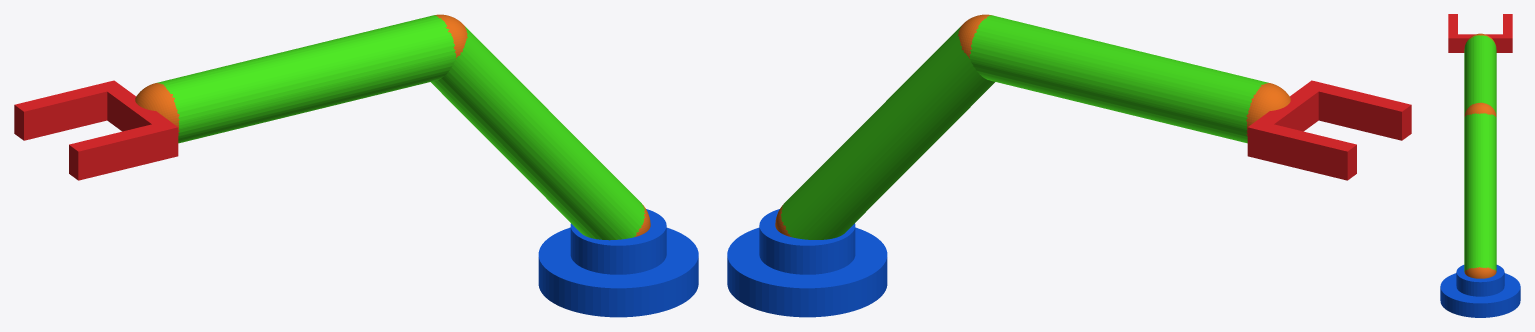
File: assemble.glb
3 views of the same model, side by side, from view 1: azimuth 30°, elevation 25°; view 2: azimuth 150°, elevation 25°; view 3: azimuth 270°, elevation 25° (orthographic). The views are drawn at different scales.
Visible parts, largest first — view 1: asssemble - links-2, asssemble - links-1, asssemble - base-1, asssemble - End effort-1, asssemble - joints-3, asssemble - joints-2; view 2: asssemble - links-2, asssemble - links-1, asssemble - base-1, asssemble - End effort-1, asssemble - joints-3, asssemble - joints-2; view 3: asssemble - links-1, asssemble - base-1, asssemble - links-2, asssemble - End effort-1, asssemble - joints-1, asssemble - joints-2.
Boxes of the visible parts, x1,y1,x2,y2 form: asssemble - links-2: [157, 15, 456, 143]; asssemble - links-1: [431, 26, 645, 240]; asssemble - base-1: [538, 209, 698, 317]; asssemble - End effort-1: [14, 80, 178, 180]; asssemble - joints-3: [135, 83, 179, 135]; asssemble - joints-2: [434, 14, 467, 59]; asssemble - links-2: [969, 15, 1268, 143]; asssemble - links-1: [781, 26, 994, 239]; asssemble - base-1: [727, 209, 887, 317]; asssemble - End effort-1: [1247, 80, 1411, 180]; asssemble - joints-3: [1246, 83, 1290, 135]; asssemble - joints-2: [957, 14, 991, 58]; asssemble - links-1: [1464, 113, 1496, 271]; asssemble - base-1: [1440, 265, 1520, 317]; asssemble - links-2: [1464, 35, 1496, 116]; asssemble - End effort-1: [1448, 14, 1512, 52]; asssemble - joints-1: [1464, 267, 1496, 278]; asssemble - joints-2: [1464, 102, 1496, 117].
Bounding box in the file's own units: 11.56 × 5.33 × 2.5.
